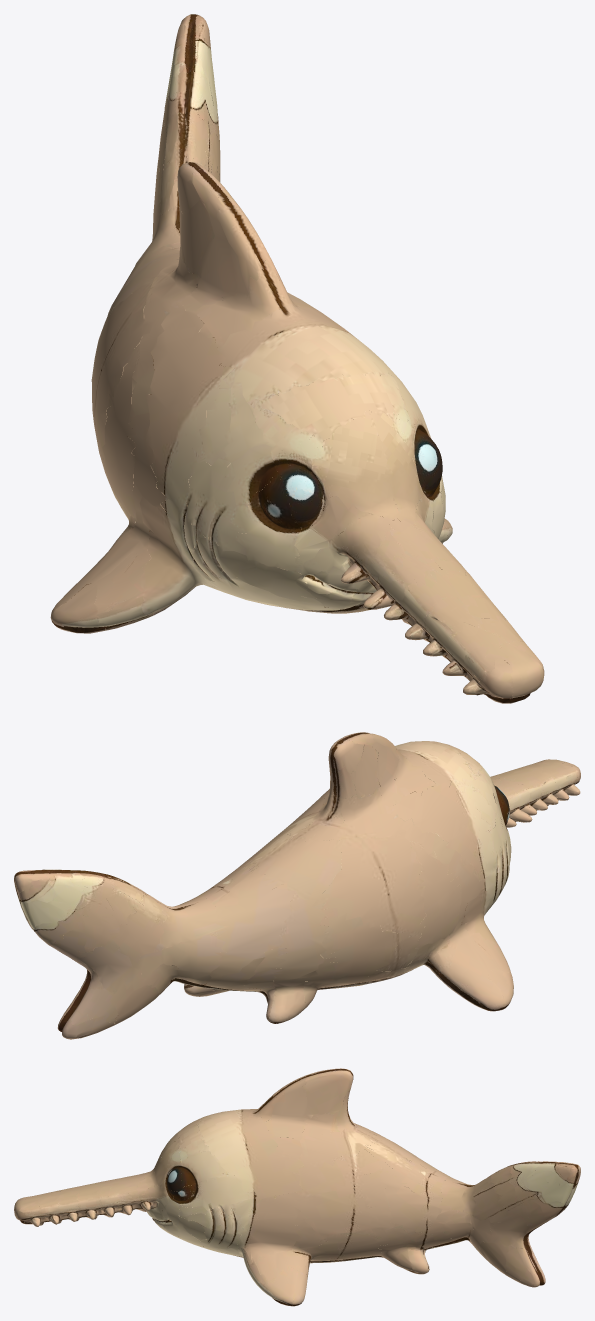
3 views of the same model, one above another, from view 1: azimuth 30°, elevation 25°; view 2: azimuth 150°, elevation 25°; view 3: azimuth 270°, elevation 25° (orthographic). The views are drawn at different scales.
Visible parts, largest first — view 1: Mesh_0; view 2: Mesh_0; view 3: Mesh_0.
Boxes of the visible parts, x1,y1,x2,y2 form: Mesh_0: [50, 14, 544, 703]; Mesh_0: [14, 732, 580, 1039]; Mesh_0: [14, 1068, 580, 1306].
Bounding box in the file's own units: 0.843 × 0.7051 × 1.9.
Materials: 1 (1 with a texture image).
